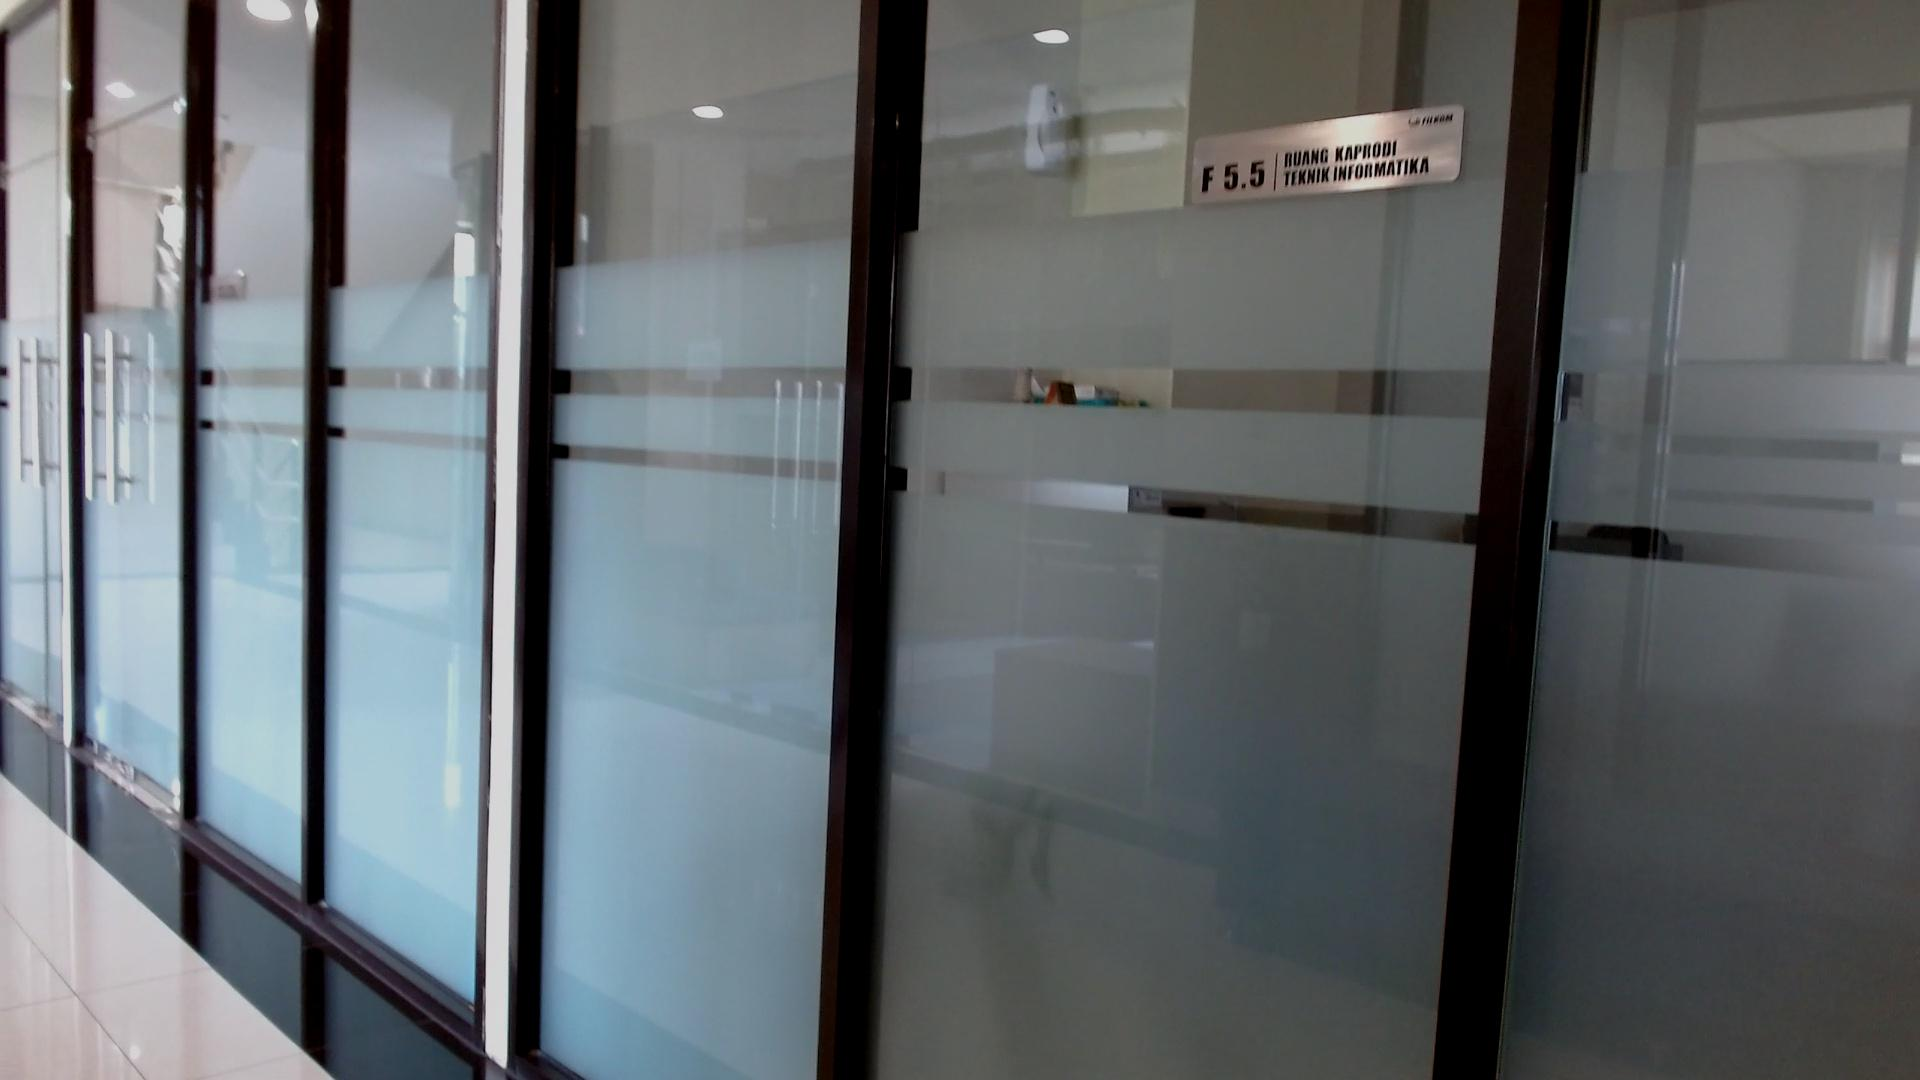plate: (1192, 103, 1466, 204)
